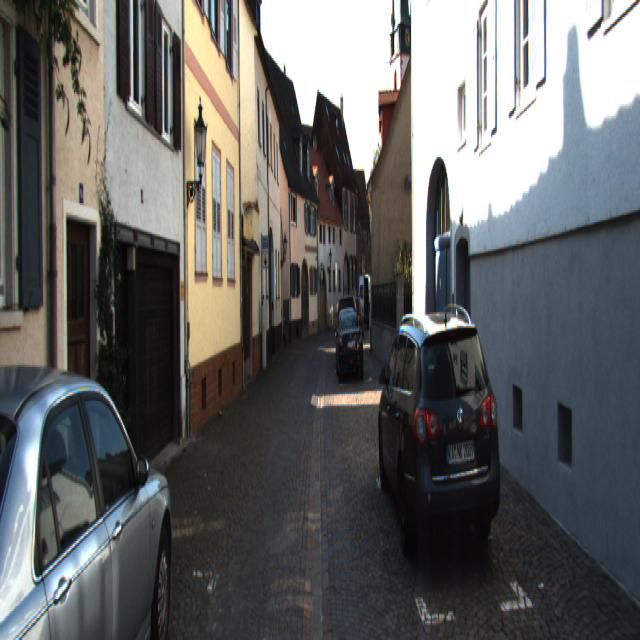Car: (0, 342, 178, 638), (376, 294, 503, 573), (337, 304, 362, 375)
Van: (358, 271, 381, 327)
